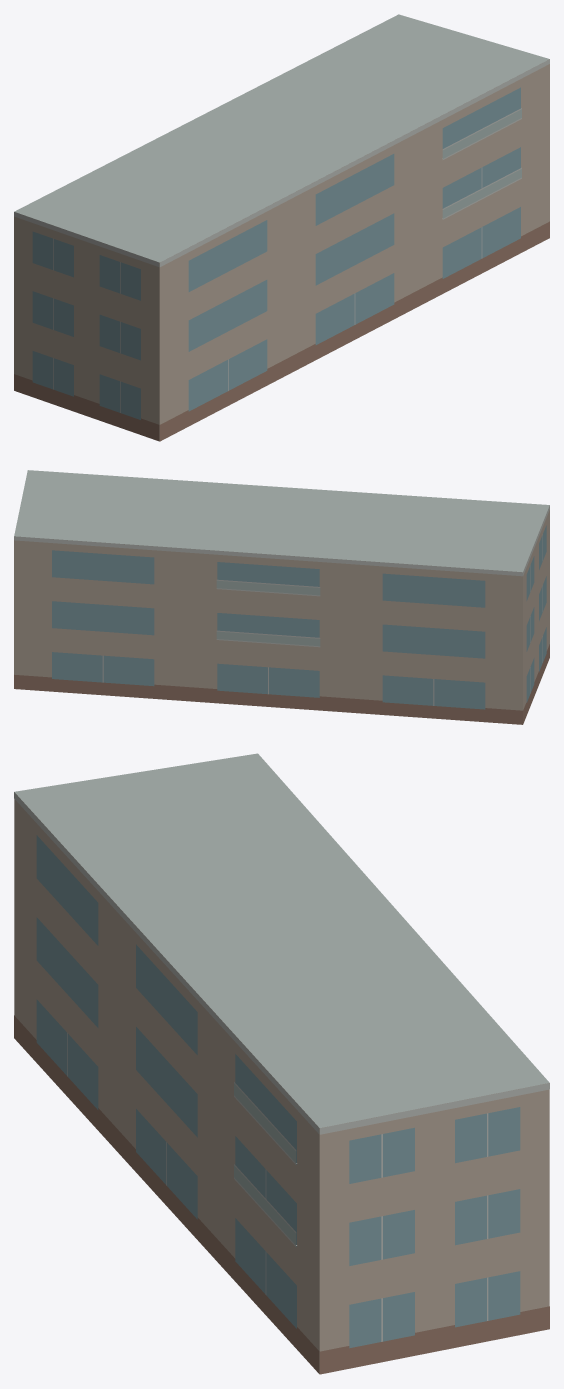
Rendered from survey-upis-32853631.glb.
3 renders of one model, top to bottom at view 1: azimuth 30°, elevation 25°; view 2: azimuth 150°, elevation 25°; view 3: azimuth 270°, elevation 25°, orthographic. The views are drawn at different scales.
Parts seen in each view (by area): view 1: survey-upis-32853631.tmp; view 2: survey-upis-32853631.tmp; view 3: survey-upis-32853631.tmp.
Part boxes in pixels (x1,y1,x2,y2): survey-upis-32853631.tmp: [14, 14, 549, 441]; survey-upis-32853631.tmp: [14, 470, 549, 724]; survey-upis-32853631.tmp: [14, 753, 549, 1374].
Size of the model in its own units: 29.71 by 9.1 by 17.95.
